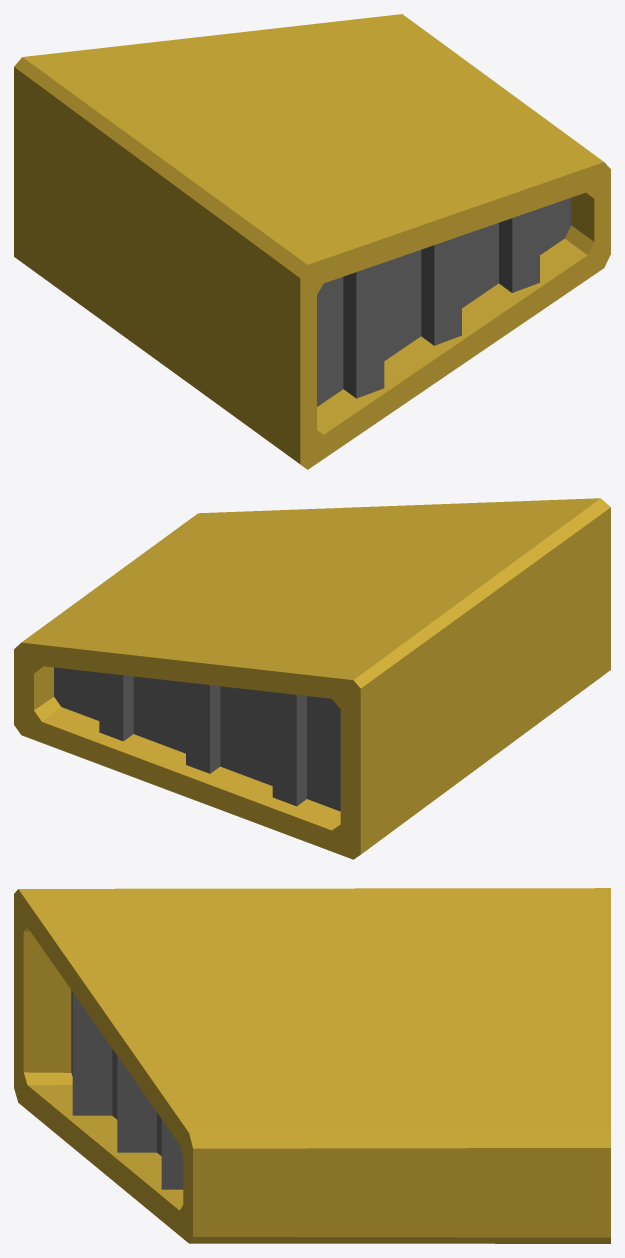
File: Lowpoly_Wing2.fbx
The picture shows the model from 3 angles, top to bottom: view 1: azimuth 30°, elevation 25°; view 2: azimuth 150°, elevation 25°; view 3: azimuth 270°, elevation 25°; orthographic projection. The views are drawn at different scales.
Parts seen in each view (by area): view 1: Wing_Thick; view 2: Wing_Thick; view 3: Wing_Thick.
Boxes of the visible parts, x1,y1,x2,y2 form: Wing_Thick: (14,14,610,469); Wing_Thick: (14,498,610,859); Wing_Thick: (14,888,610,1243).
Bounding box in the file's own units: 200 × 98.95 × 250.
